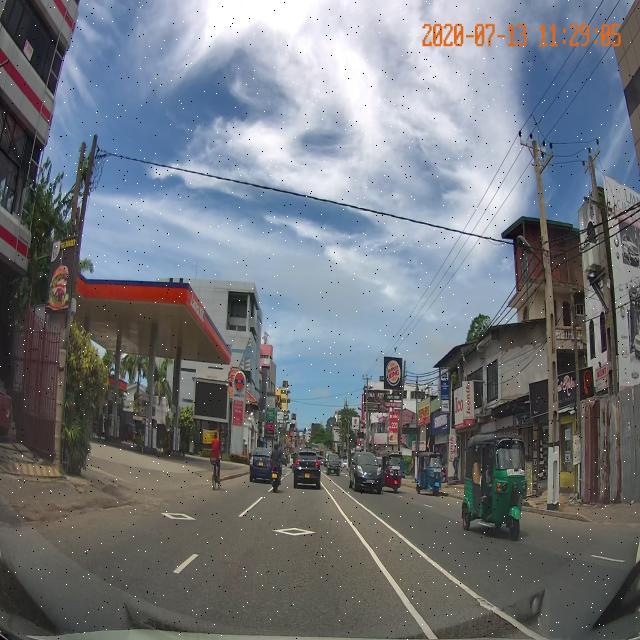diamond: (217, 516, 368, 542)
